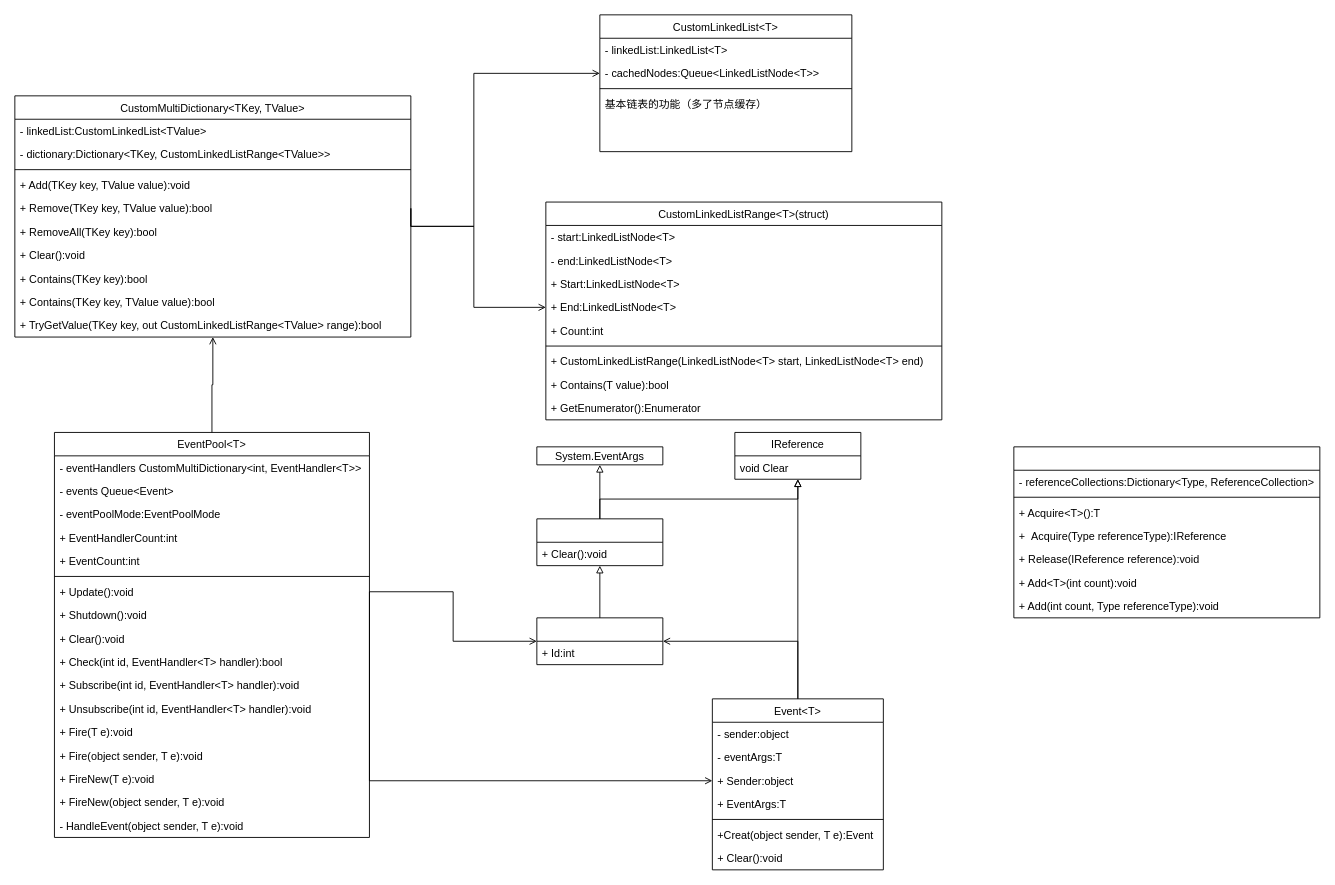
Some shapes in this 1335 by 885 pixel diagram are drawn without their labels. The shapes that lost their labels are listed below. From the top down, each one's box as (x1, y1, x2, y2) in pixels, then its label:
(536, 518, 663, 566): CustomEventArgs
(1013, 446, 1320, 618): ReferencePool
(536, 617, 663, 665): BaseEventArgs
